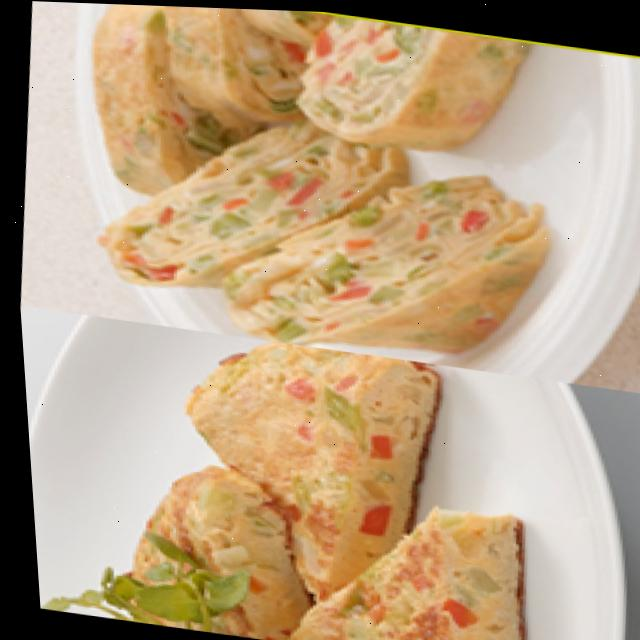鸡蛋料理: (56, 2, 583, 356)
